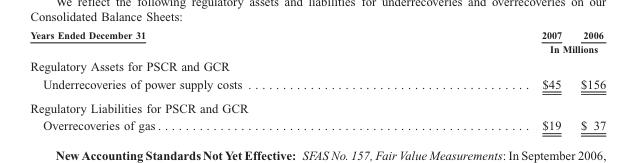table: (29, 29, 605, 131)
table column: (29, 29, 391, 131), (391, 29, 570, 131), (570, 29, 605, 131)
table column header: (29, 29, 605, 56)
table projected row header: (29, 95, 605, 116), (29, 56, 605, 74)
table row: (29, 74, 605, 95), (29, 95, 605, 116), (29, 56, 605, 74), (29, 41, 605, 56), (29, 116, 605, 131), (29, 29, 605, 41)
table spanning cell: (29, 29, 391, 56), (391, 41, 605, 56)
